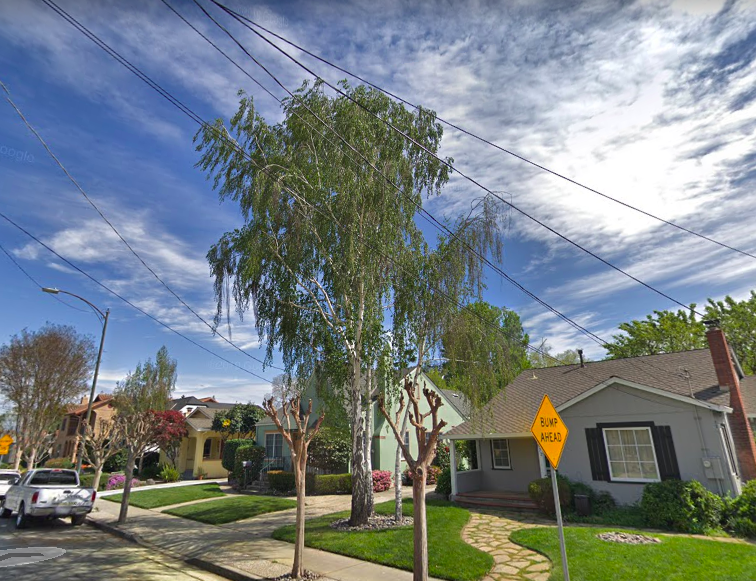tree: (190, 76, 530, 527)
